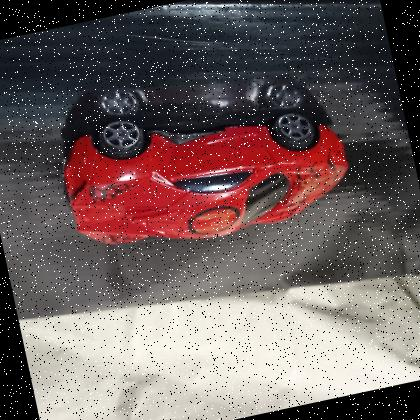Car: (44, 69, 368, 274)
